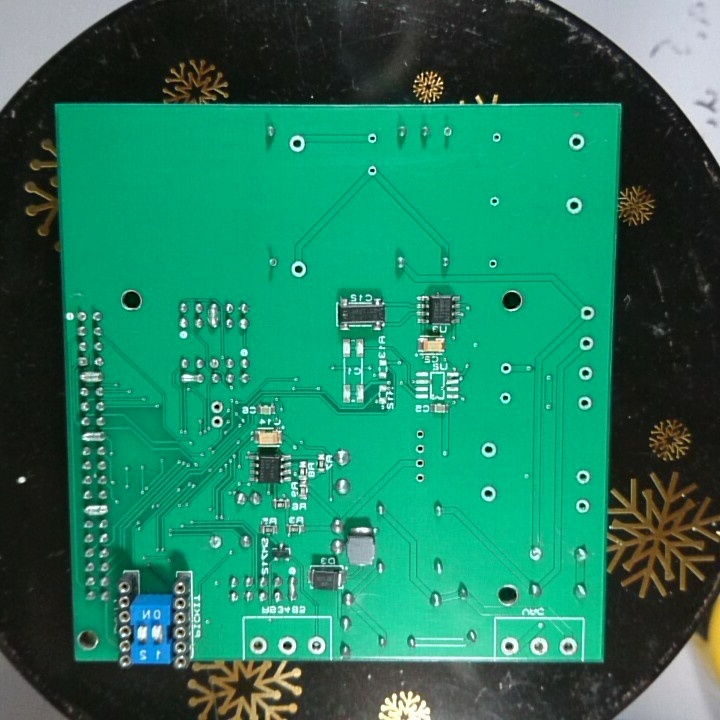F: (497, 632, 523, 658), (304, 633, 329, 660), (276, 632, 299, 658), (247, 633, 270, 658), (557, 633, 579, 659), (571, 495, 592, 521), (565, 129, 588, 152), (564, 195, 587, 218), (478, 439, 500, 463), (527, 634, 550, 656), (576, 332, 598, 354), (205, 532, 227, 554), (287, 132, 308, 155), (577, 302, 598, 325), (288, 259, 310, 280), (478, 483, 500, 504), (576, 363, 596, 386), (527, 541, 544, 566), (576, 393, 595, 415), (573, 467, 593, 486), (207, 412, 226, 432), (496, 360, 516, 378), (495, 389, 515, 406), (364, 160, 380, 181), (440, 123, 457, 142), (413, 470, 430, 489), (207, 398, 227, 414), (364, 129, 381, 146), (74, 309, 92, 325), (487, 192, 501, 212), (485, 256, 500, 272), (490, 129, 504, 146), (412, 455, 429, 469), (266, 255, 281, 270), (207, 355, 222, 370), (413, 427, 428, 441), (412, 442, 428, 455)
P: (81, 503, 110, 518), (79, 430, 108, 444), (207, 301, 220, 331), (76, 370, 105, 383), (177, 372, 205, 385), (286, 575, 299, 603)
